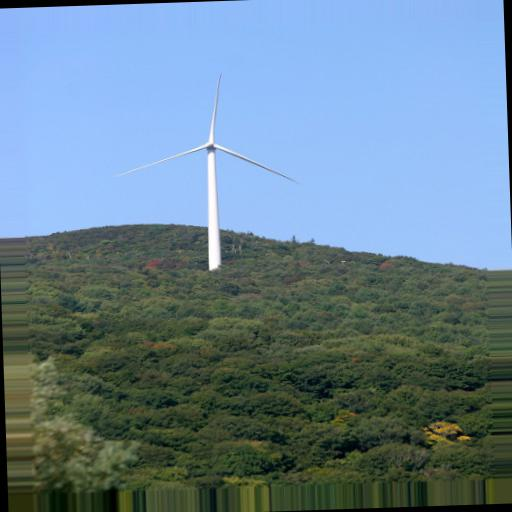wind turbine: (116, 69, 301, 267)
